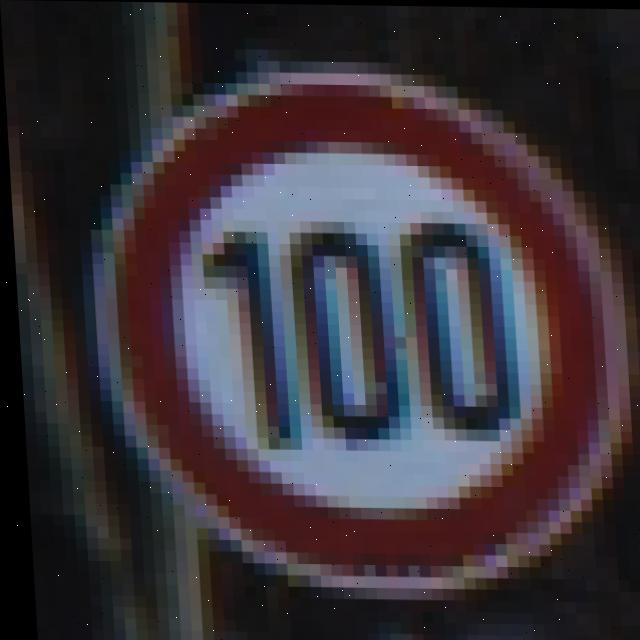speed_limit_100: (126, 77, 621, 603)
